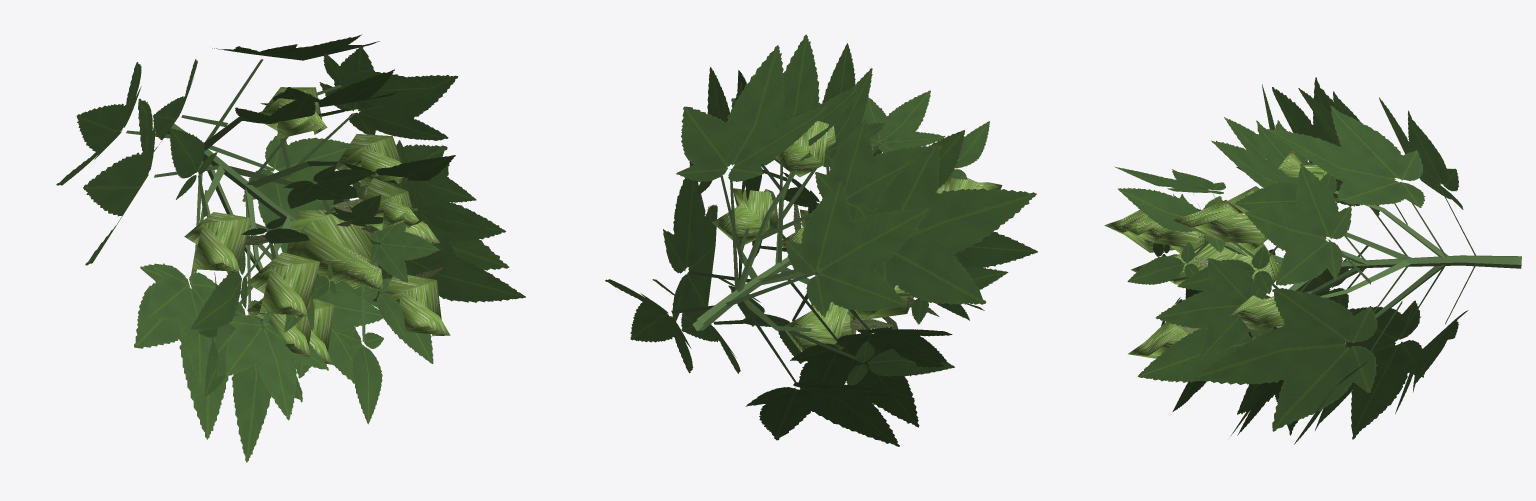
The model's file is p_afghan_flowering_c0_cards.obj.
3 views of the same model, side by side, from view 1: azimuth 30°, elevation 25°; view 2: azimuth 150°, elevation 25°; view 3: azimuth 270°, elevation 25° (orthographic). The views are drawn at different scales.
Bounding box in the file's own units: 1.41 × 1.38 × 1.25.
1 material, 1 textured.
